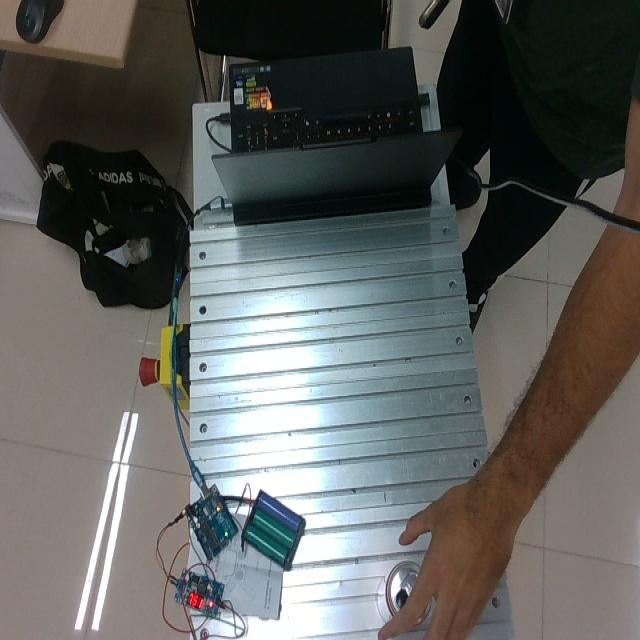coca: (385, 560, 428, 624)
